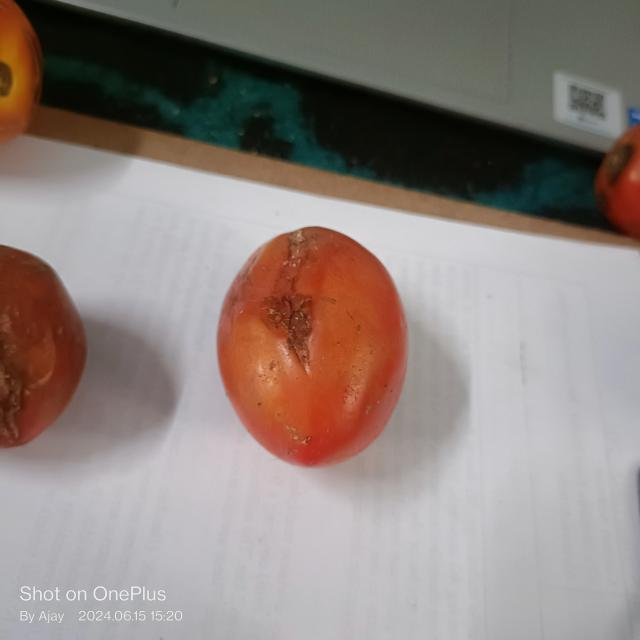tomato_cracking: (255, 225, 317, 377)
